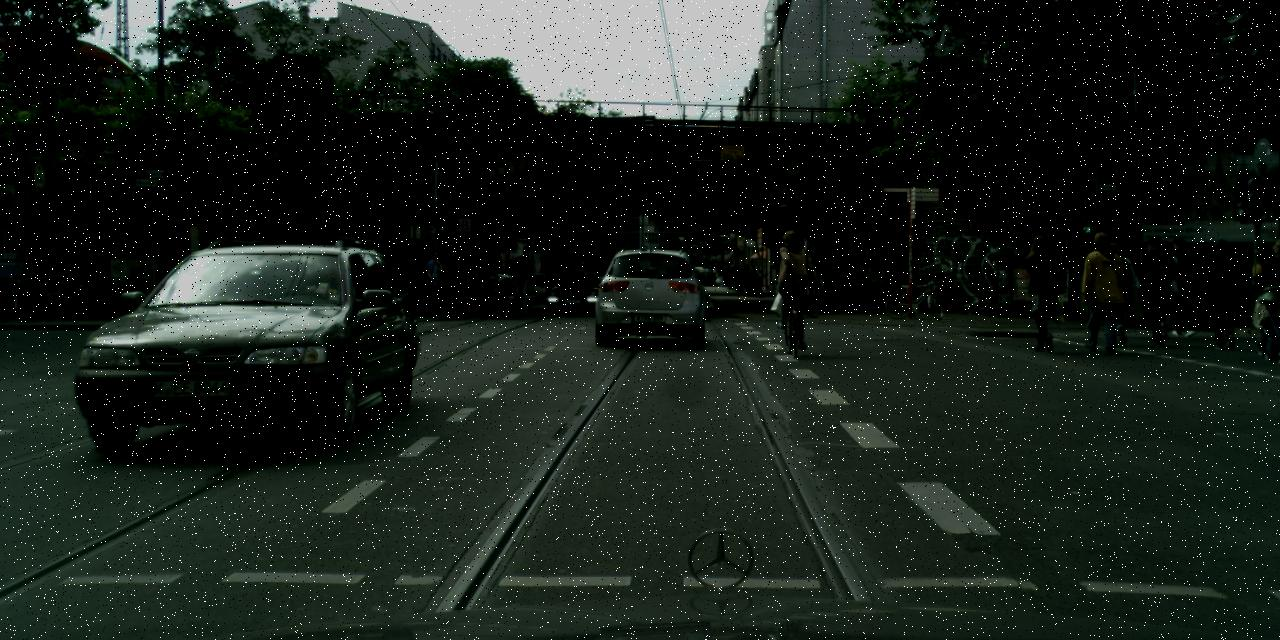ped: (1077, 232, 1125, 350), (1018, 235, 1064, 348), (1201, 238, 1245, 347), (1134, 236, 1178, 344), (769, 231, 812, 335), (1092, 243, 1132, 339), (1161, 238, 1200, 334), (1143, 242, 1181, 334), (1254, 239, 1278, 360), (420, 250, 448, 316), (492, 252, 514, 308), (510, 256, 530, 310), (411, 250, 431, 298), (804, 254, 823, 302), (483, 250, 502, 296), (401, 251, 420, 297), (438, 254, 456, 300), (476, 255, 492, 296), (467, 254, 483, 294), (742, 258, 757, 294), (731, 260, 743, 290), (542, 259, 554, 287), (718, 262, 728, 286), (552, 262, 562, 286), (566, 262, 575, 284), (707, 264, 715, 286)
